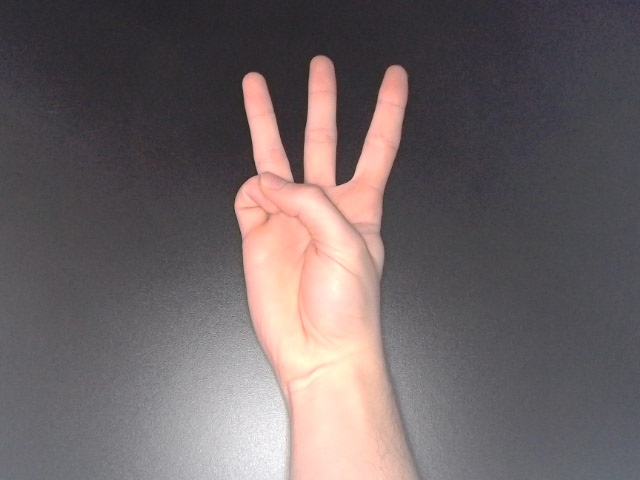w: (227, 51, 416, 398)
